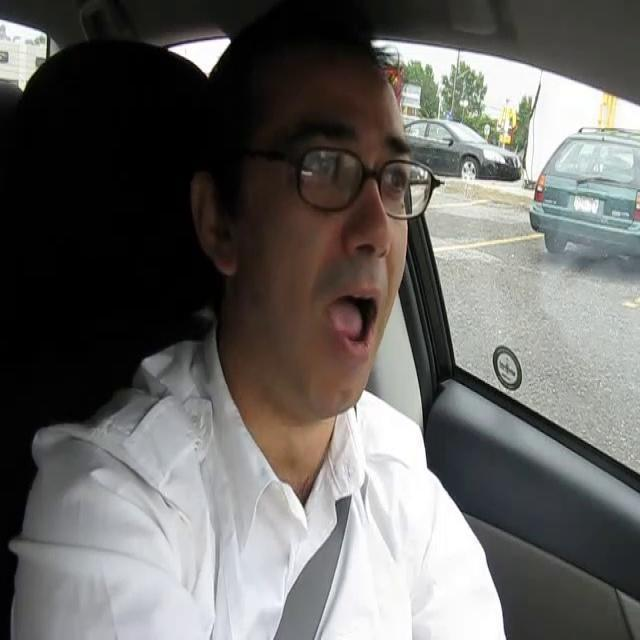open-mouth: (322, 281, 383, 359)
